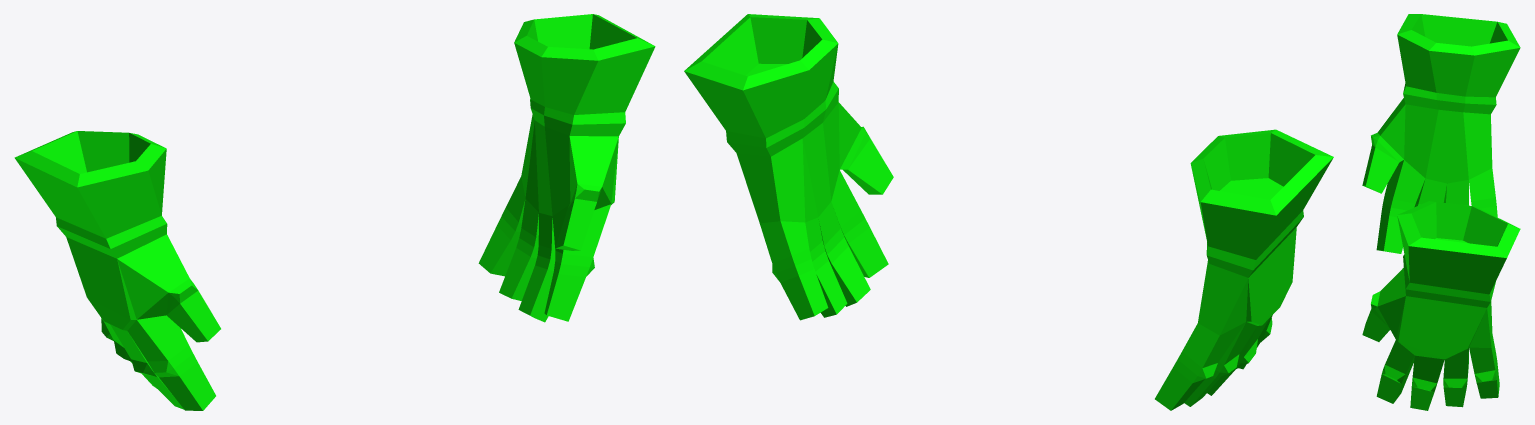
The model's file is SM_Armor_Gloves_B_Hanging_Fantasy.fbx.
3 views of the same model, side by side, from view 1: azimuth 30°, elevation 25°; view 2: azimuth 150°, elevation 25°; view 3: azimuth 270°, elevation 25° (orthographic). The views are drawn at different scales.
Visible parts, largest first — view 1: armor-gloves-b-hanging-fantasy; view 2: armor-gloves-b-hanging-fantasy; view 3: armor-gloves-b-hanging-fantasy.
Boxes of the visible parts, x1=… form: armor-gloves-b-hanging-fantasy: x1=14, y1=14, x2=655, y2=410; armor-gloves-b-hanging-fantasy: x1=684, y1=14, x2=1333, y2=410; armor-gloves-b-hanging-fantasy: x1=1362, y1=14, x2=1520, y2=410.
Bounding box in the file's own units: 0.6444 × 0.2783 × 0.1839.
